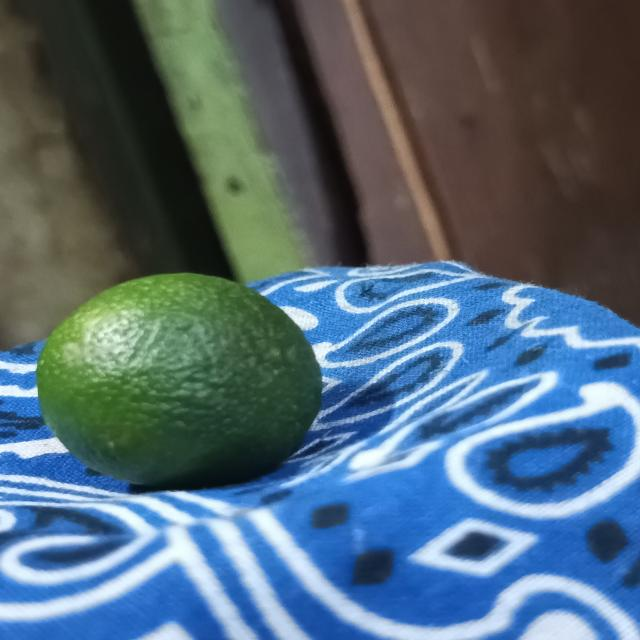heathy: (27, 273, 325, 497)
